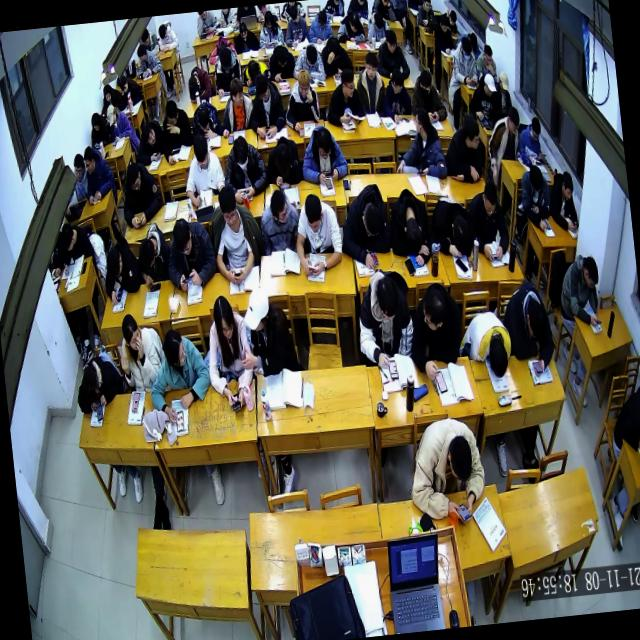bow: (499, 277, 556, 375), (336, 179, 394, 268), (386, 184, 436, 268), (457, 306, 514, 378), (72, 350, 124, 414), (428, 192, 477, 256), (98, 232, 142, 300), (132, 222, 172, 284), (132, 118, 166, 164), (188, 98, 222, 140), (116, 74, 146, 108)
down: (445, 434, 475, 486), (373, 275, 400, 323), (210, 294, 237, 342), (301, 190, 324, 233), (313, 122, 335, 164), (170, 217, 193, 254), (360, 201, 382, 239), (79, 364, 100, 401), (479, 178, 499, 216), (135, 237, 157, 270), (230, 136, 250, 172), (581, 253, 600, 290), (191, 134, 210, 168), (272, 142, 291, 176), (104, 248, 125, 278), (525, 164, 544, 195), (125, 162, 143, 192), (163, 99, 180, 128), (60, 223, 76, 253), (505, 104, 520, 134), (560, 170, 574, 200), (296, 69, 310, 99), (254, 76, 270, 102), (82, 144, 96, 173), (216, 48, 234, 70), (459, 36, 474, 62), (383, 28, 398, 54), (196, 105, 210, 132), (482, 68, 495, 97), (326, 38, 341, 61), (530, 116, 543, 142), (274, 42, 288, 66), (347, 11, 360, 34), (370, 10, 384, 31), (247, 58, 261, 79), (186, 73, 200, 94), (304, 44, 318, 64), (105, 102, 118, 123), (498, 68, 510, 90), (438, 10, 450, 32), (482, 44, 493, 66), (237, 18, 248, 40), (90, 112, 102, 132), (102, 81, 114, 101), (263, 8, 274, 29), (117, 76, 129, 95), (139, 27, 150, 47), (315, 9, 327, 27), (288, 4, 299, 22), (448, 9, 458, 23), (157, 23, 167, 36), (420, 0, 430, 9), (380, 0, 391, 8), (198, 10, 208, 18), (356, 0, 367, 7), (221, 8, 230, 15), (332, 0, 341, 5)
lookup: (216, 183, 239, 231), (72, 147, 86, 180), (364, 48, 379, 78)
sit: (402, 413, 493, 530), (351, 266, 418, 381), (142, 324, 214, 428), (201, 291, 257, 408), (404, 277, 467, 379), (206, 182, 267, 286), (237, 284, 300, 374), (291, 188, 345, 276), (114, 307, 167, 394), (163, 212, 218, 288), (391, 106, 447, 180), (464, 178, 511, 258), (219, 132, 269, 206), (439, 112, 488, 184), (255, 182, 303, 255), (556, 250, 602, 326), (178, 134, 226, 206), (295, 123, 347, 186), (117, 158, 164, 226), (512, 162, 554, 232), (244, 72, 287, 136), (280, 68, 322, 130), (320, 67, 364, 126), (80, 138, 119, 202), (606, 383, 640, 456), (484, 104, 524, 166), (51, 218, 98, 270), (351, 51, 388, 117), (155, 98, 193, 162), (216, 77, 256, 137), (406, 68, 449, 122), (262, 134, 304, 189), (547, 168, 579, 232), (207, 42, 245, 95), (374, 26, 410, 78), (377, 65, 413, 116), (448, 35, 480, 90), (466, 70, 501, 120), (320, 34, 354, 78), (291, 40, 325, 81), (102, 100, 135, 140), (518, 116, 544, 166), (262, 44, 296, 82), (68, 149, 90, 206), (256, 9, 286, 50), (132, 41, 165, 78), (334, 11, 366, 45), (230, 16, 260, 52), (282, 4, 310, 42), (85, 110, 112, 148), (240, 56, 272, 88), (306, 10, 336, 42), (494, 70, 514, 116), (474, 42, 498, 80), (98, 80, 124, 113), (432, 14, 454, 52), (364, 10, 390, 42), (155, 18, 179, 51), (365, 0, 398, 22), (194, 10, 218, 35), (138, 24, 158, 54), (214, 8, 238, 32), (279, 0, 305, 22), (234, 5, 258, 28), (254, 4, 279, 26), (415, 0, 434, 25), (345, 0, 370, 18), (322, 0, 346, 18), (388, 0, 410, 14)
